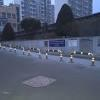Animal: (69, 51, 97, 67), (44, 51, 61, 63), (25, 48, 43, 59), (13, 46, 24, 57), (1, 42, 13, 52)
